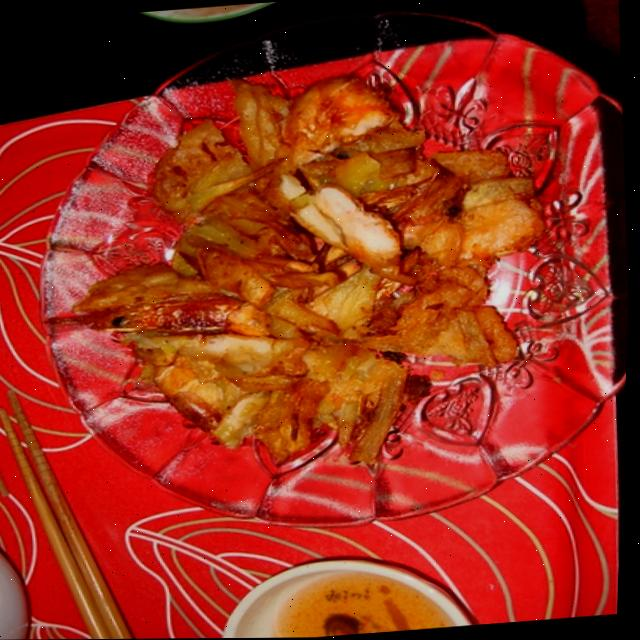炸货点心: (44, 29, 587, 521)
熟制海鲜: (44, 29, 587, 521)
